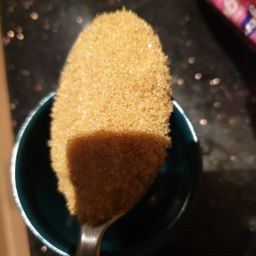Brown Sugar: (52, 5, 176, 237), (95, 20, 141, 192), (81, 47, 119, 215), (66, 73, 161, 127), (61, 134, 155, 175)
